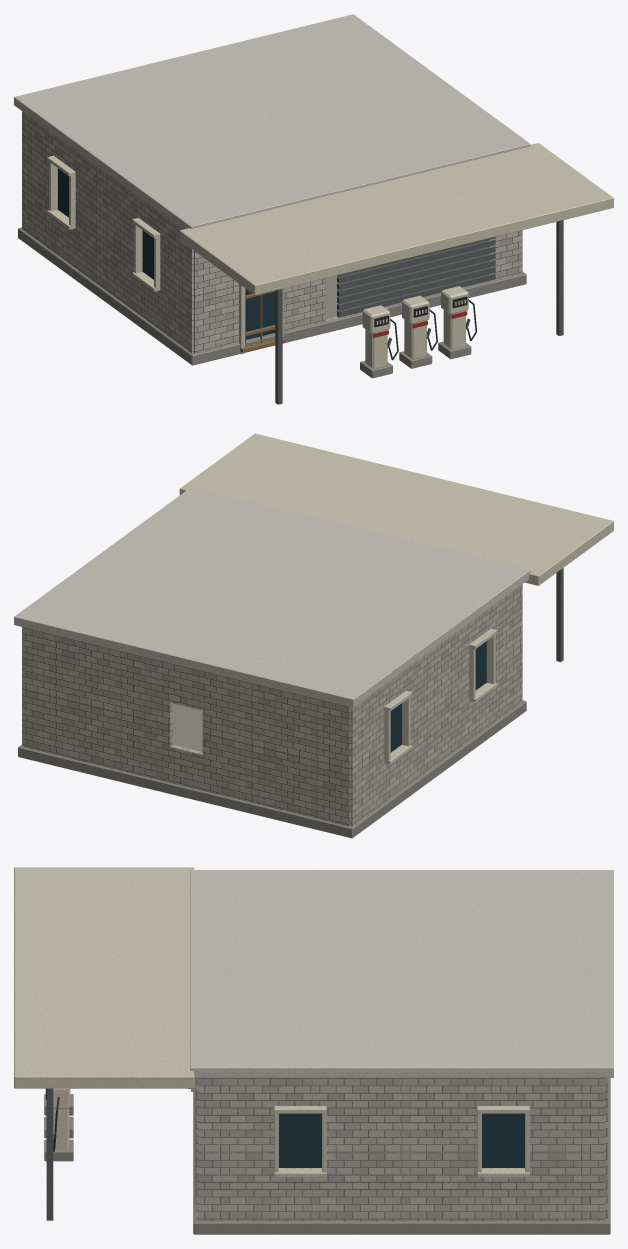
File: GASB2_lod1.glb
The picture shows the model from 3 angles, top to bottom: view 1: azimuth 30°, elevation 25°; view 2: azimuth 150°, elevation 25°; view 3: azimuth 270°, elevation 25°; orthographic projection. The views are drawn at different scales.
Visible parts, largest first — view 1: GASB2_LOD1; view 2: GASB2_LOD1; view 3: GASB2_LOD1.
Part boxes in pixels (x1,y1,x2,y2): GASB2_LOD1: (14, 14, 613, 404); GASB2_LOD1: (14, 433, 613, 838); GASB2_LOD1: (14, 867, 613, 1234).
Bounding box in the file's own units: 11 × 4.12 × 13.3.
Materials: 10 (8 with a texture image).
